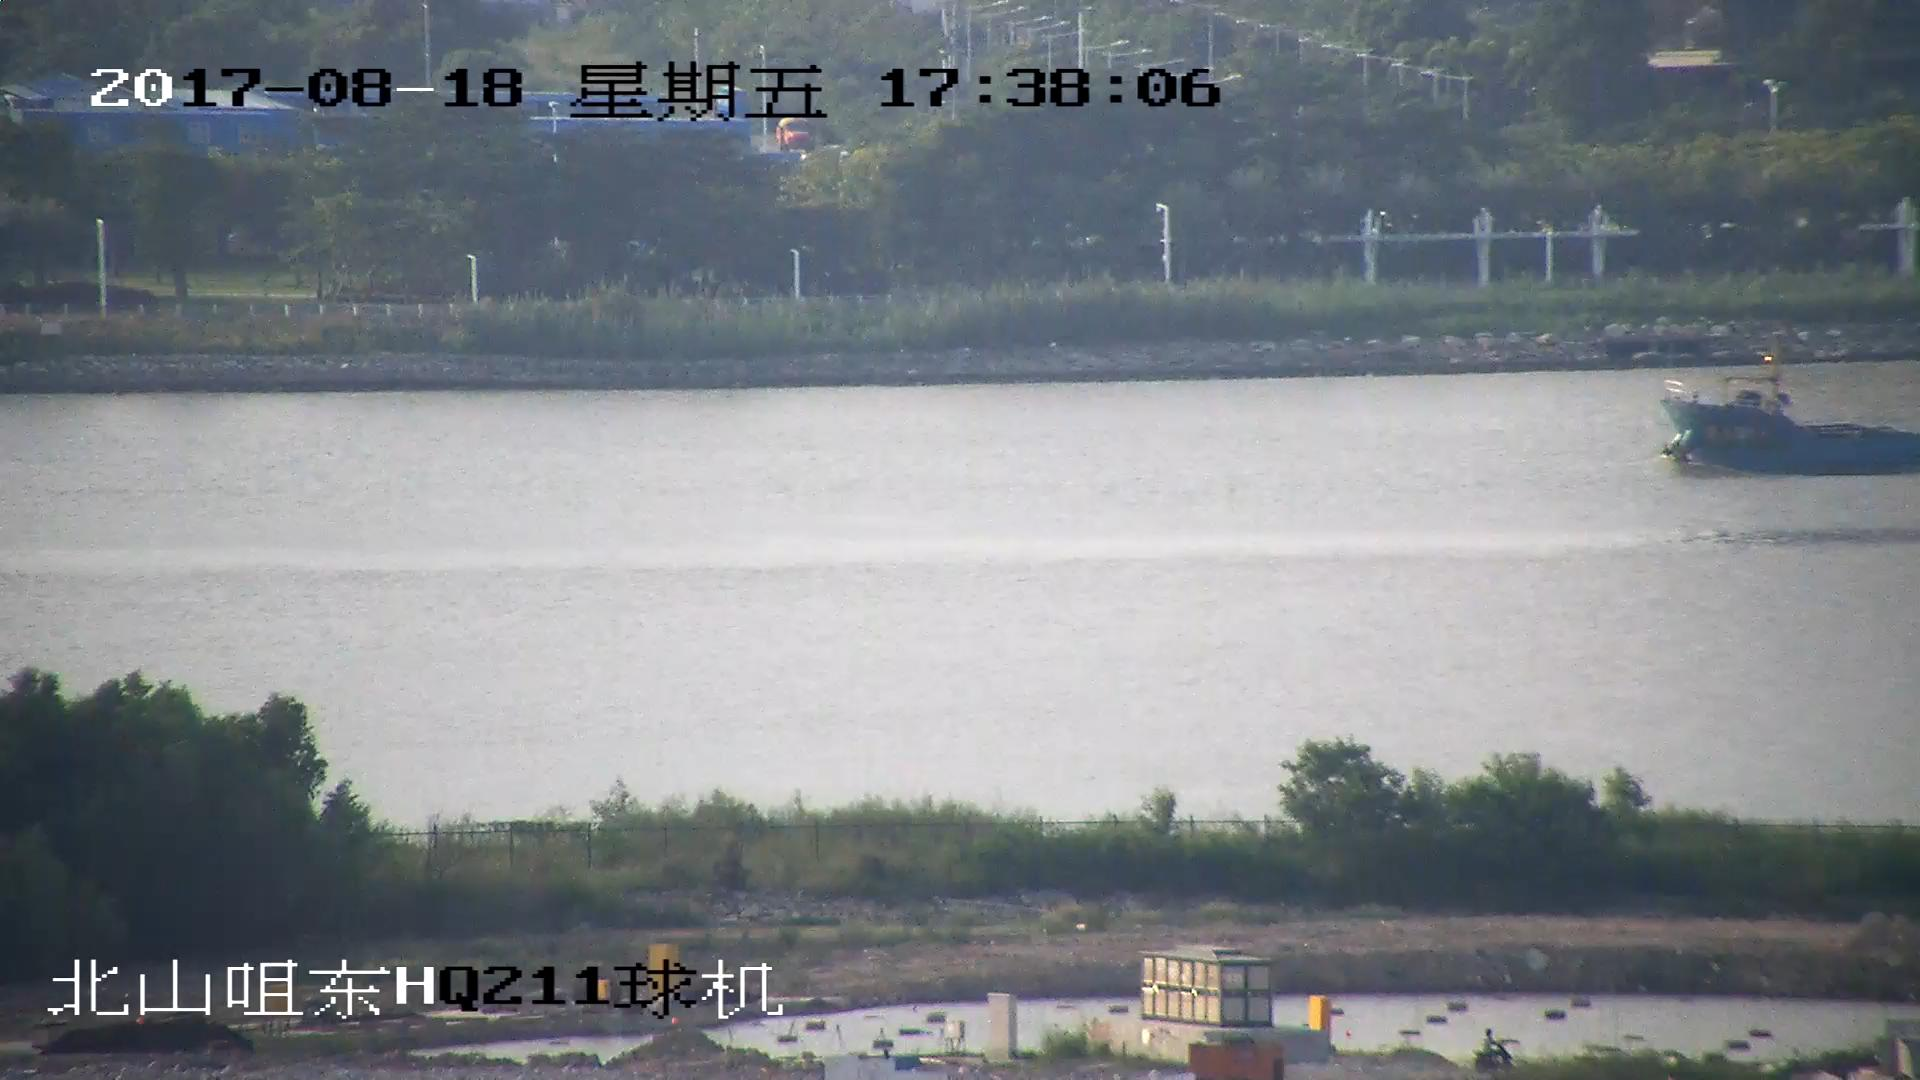general cargo ship: (1661, 348, 1920, 480)
